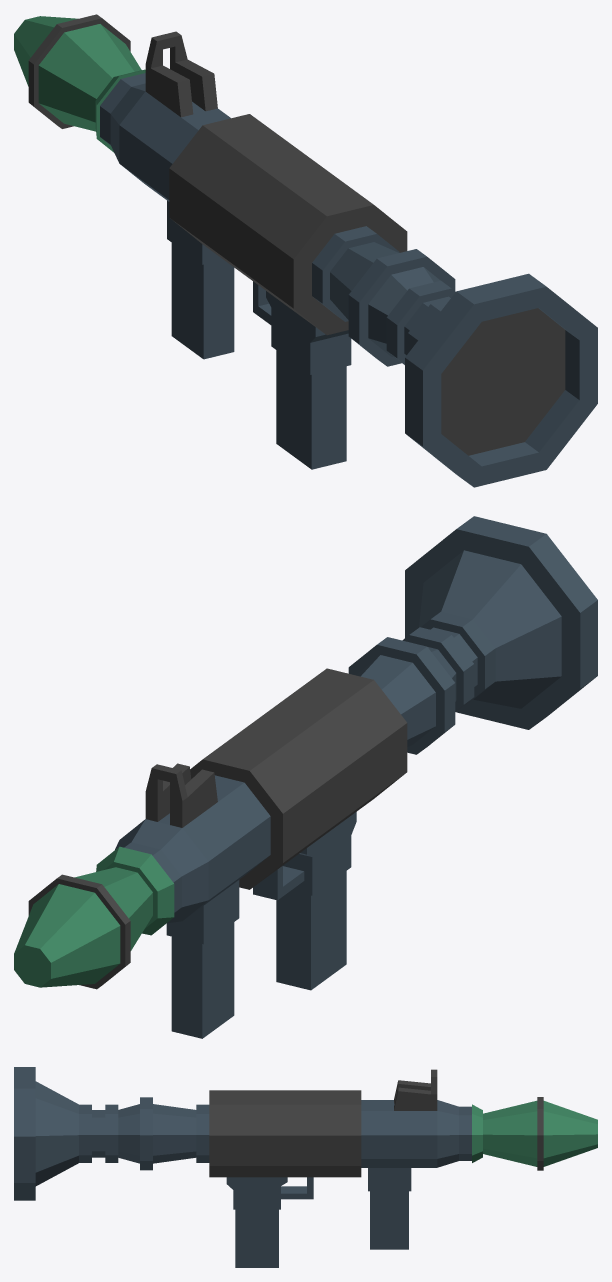
The model's file is rocket_launcher.fbx.
3 views of the same model, one above another, from view 1: azimuth 30°, elevation 25°; view 2: azimuth 150°, elevation 25°; view 3: azimuth 270°, elevation 25° (orthographic). The views are drawn at different scales.
Parts seen in each view (by area): view 1: body, rocket; view 2: body, rocket; view 3: body, rocket.
Part boxes in pixels (x1,y1,x2,y2): body: [100, 31, 597, 487]; rocket: [14, 14, 145, 152]; body: [115, 516, 597, 1038]; rocket: [14, 846, 174, 989]; body: [14, 1067, 471, 1267]; rocket: [472, 1097, 597, 1170].
Size of the model in its own units: 21.79 by 36.86 by 103.
